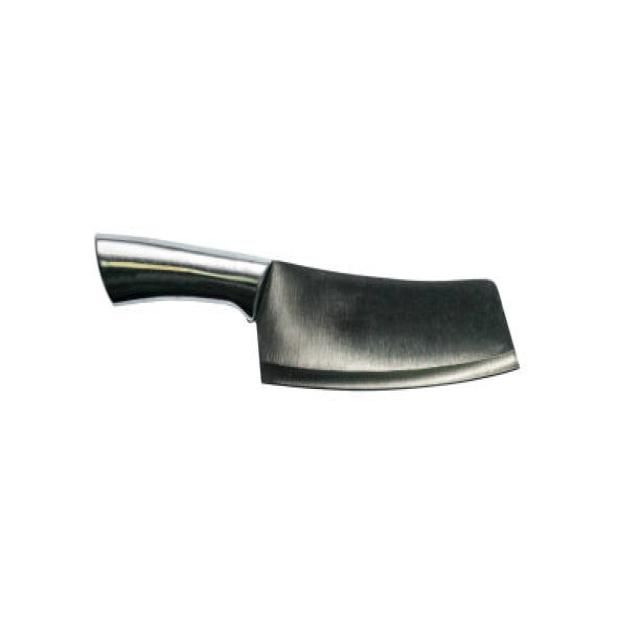knife: (89, 223, 523, 398)
